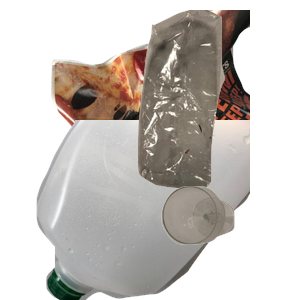glass: (159, 184, 300, 300)
paper: (49, 10, 289, 190)
plastic: (34, 120, 274, 300)
trash: (114, 10, 300, 190)
